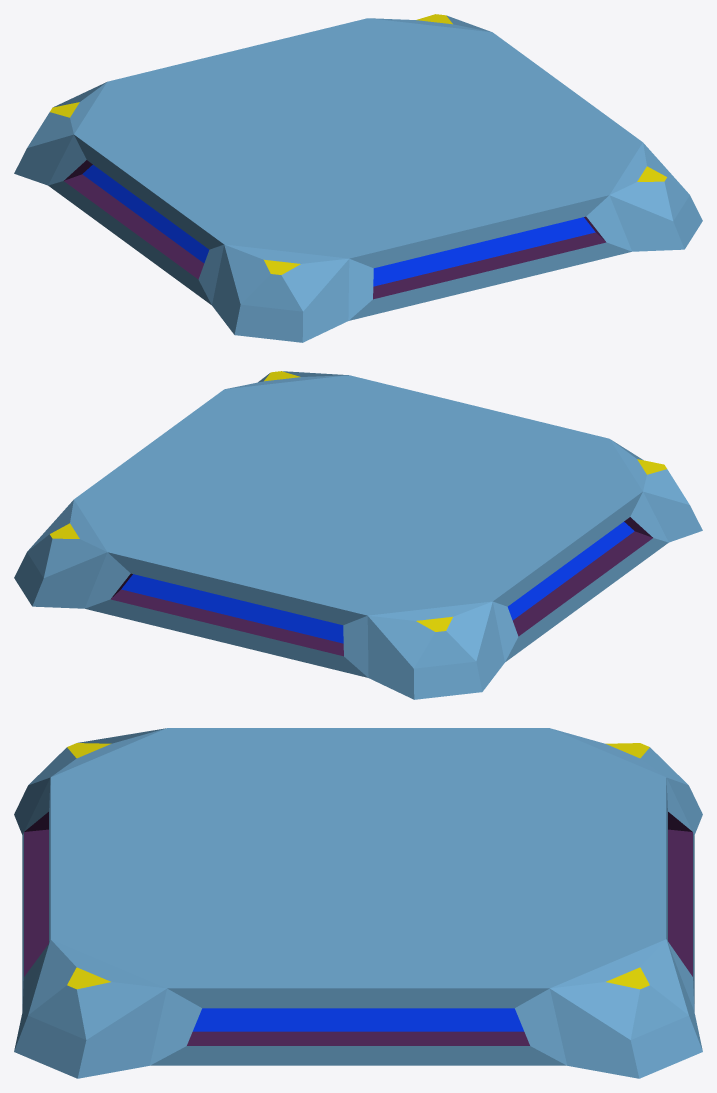
File: TowerBasicComponentBASE.fbx
3 views of the same model, one above another, from view 1: azimuth 30°, elevation 25°; view 2: azimuth 150°, elevation 25°; view 3: azimuth 270°, elevation 25° (orthographic). The views are drawn at different scales.
Visible parts, largest first — view 1: Cylinder.001; view 2: Cylinder.001; view 3: Cylinder.001.
Boxes of the visible parts, <box> form: Cylinder.001: <box>14,14,702,342</box>; Cylinder.001: <box>14,371,702,699</box>; Cylinder.001: <box>14,728,702,1078</box>.
Bounding box in the file's own units: 194 × 23.25 × 194.
